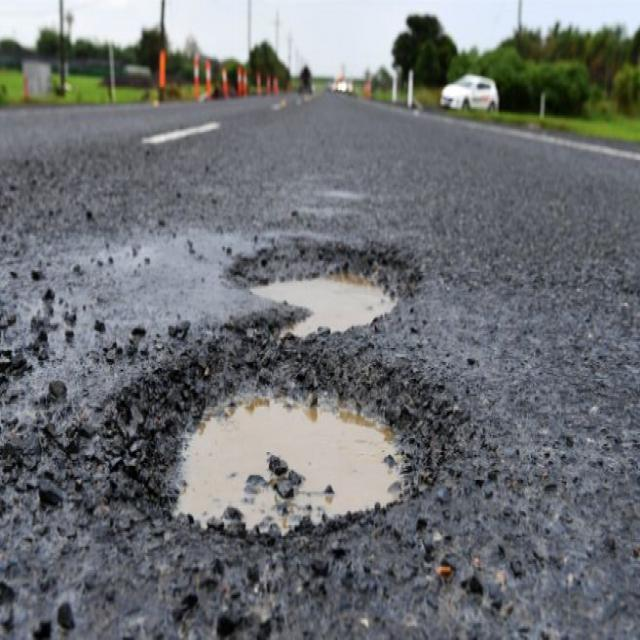Pothole: (104, 346, 445, 539), (227, 232, 422, 343)
